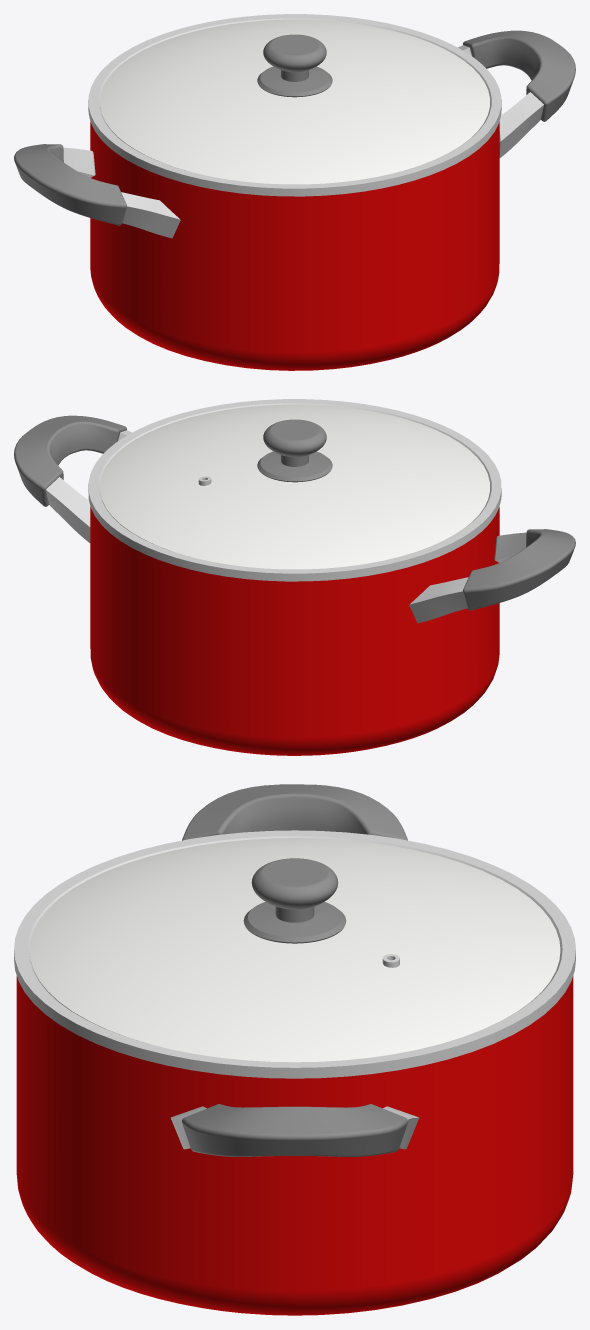
Rendered from 789_two_handed_pan.glb.
3 renders of one model, top to bottom at view 1: azimuth 30°, elevation 25°; view 2: azimuth 150°, elevation 25°; view 3: azimuth 270°, elevation 25°, orthographic. The views are drawn at different scales.
Visible parts, largest first — view 1: Body, huta; view 2: Body, huta; view 3: Body, huta.
Boxes of the visible parts, left/top/right/bottom form: Body: left=14, top=30, right=575, bottom=370; huta: left=88, top=14, right=501, bottom=196; Body: left=14, top=415, right=575, bottom=755; huta: left=88, top=399, right=501, bottom=581; Body: left=16, top=784, right=573, bottom=1315; huta: left=14, top=830, right=575, bottom=1078.
Bounding box in the file's own units: 0.3895 × 0.175 × 0.2625.
